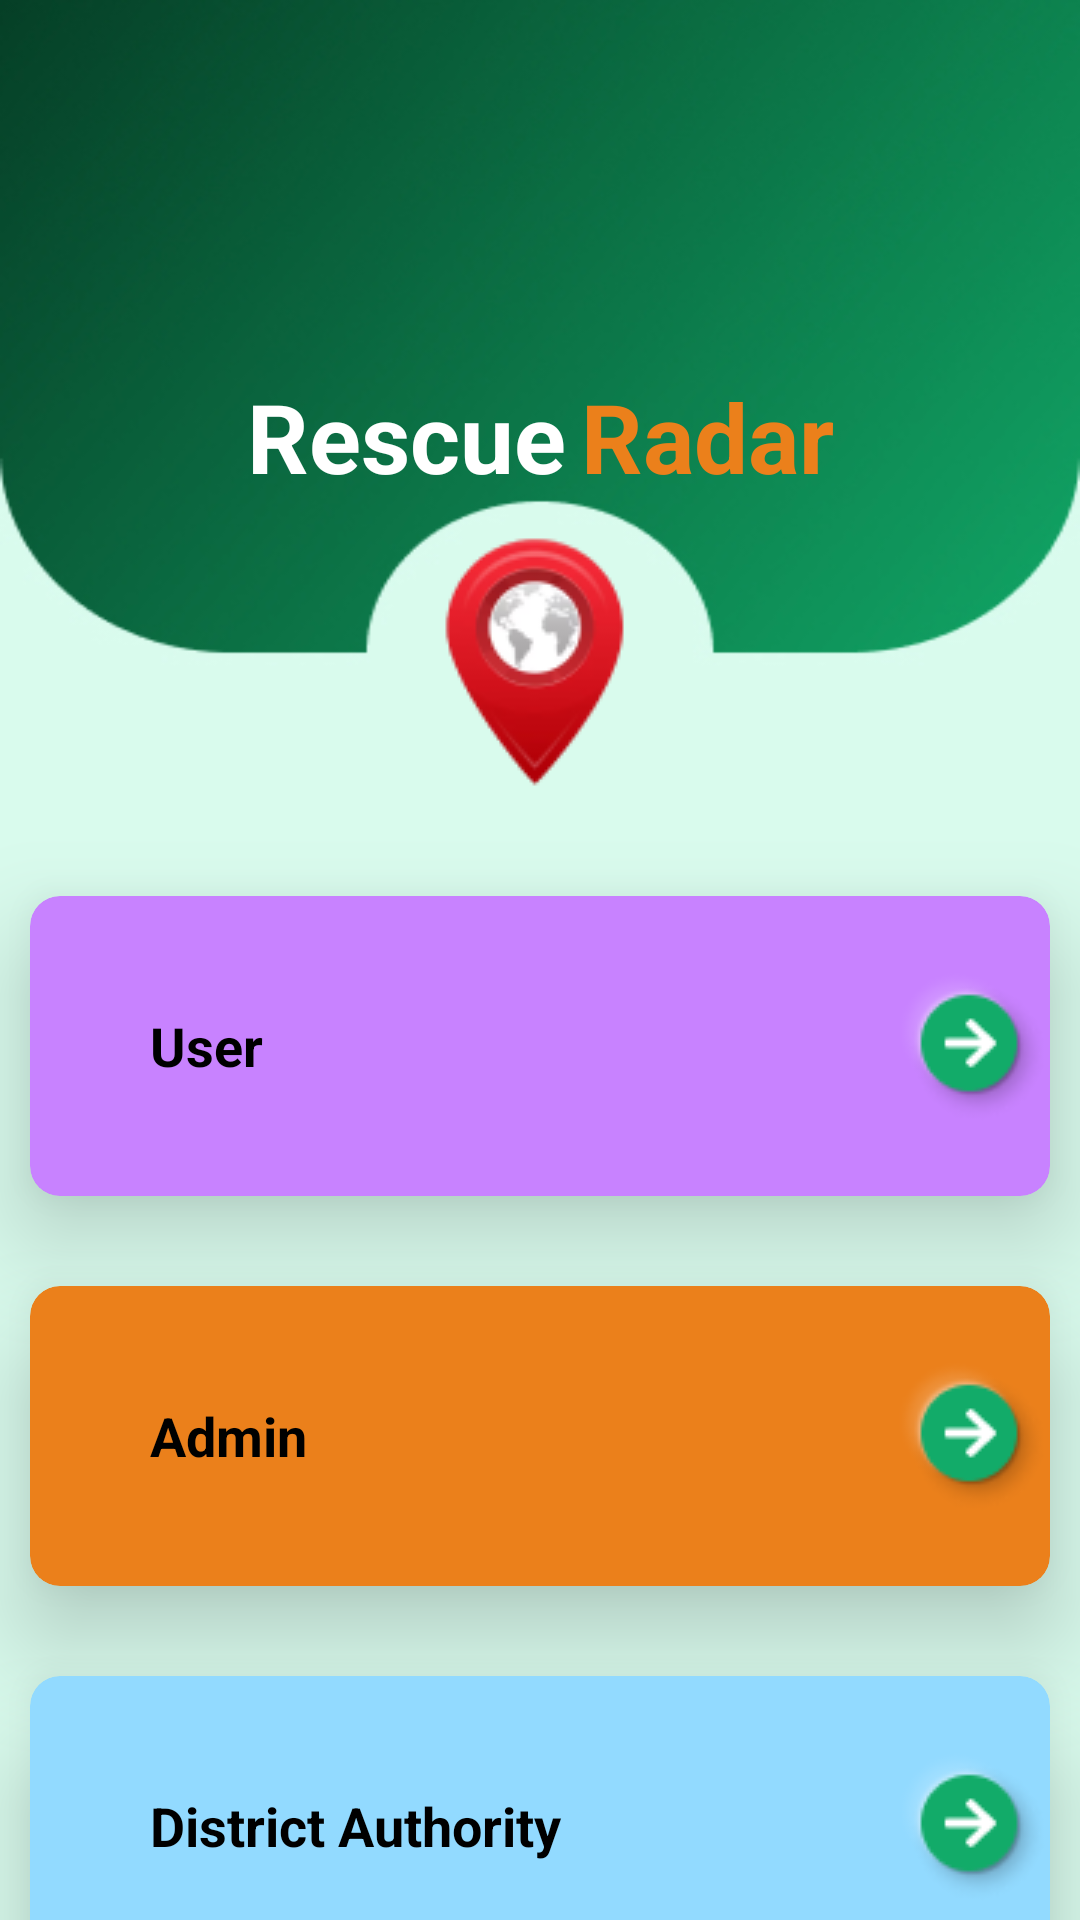

Icon bounding boxes for this 1080w x 1920h phone screenshot, format (x1, y1, x2, y2):
arrow: (917, 991, 1027, 1102), (914, 1378, 1027, 1491), (917, 1771, 1027, 1882)
locimage: (445, 538, 624, 786)
